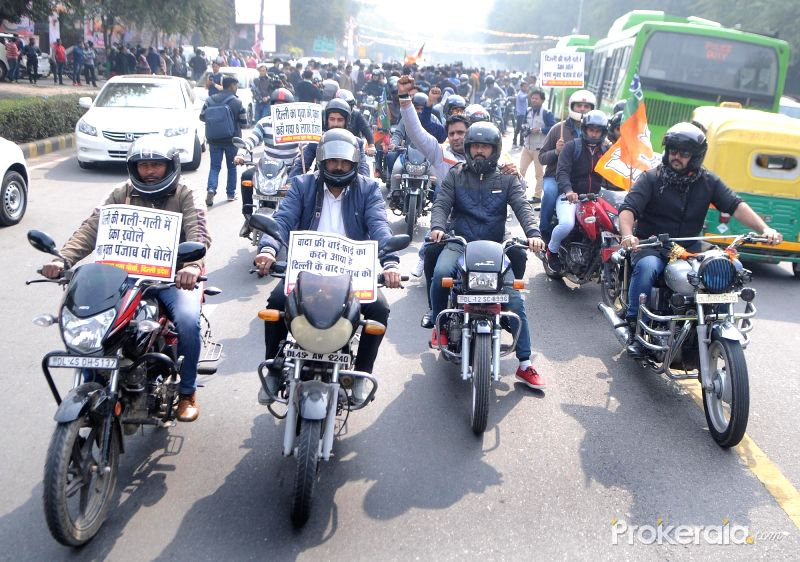helmet: (127, 137, 182, 195), (660, 120, 707, 175), (311, 128, 359, 181), (463, 123, 500, 163), (580, 111, 611, 143), (569, 90, 597, 113)
